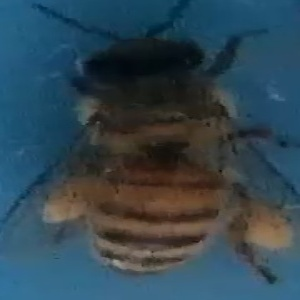bee: (37, 10, 297, 287)
